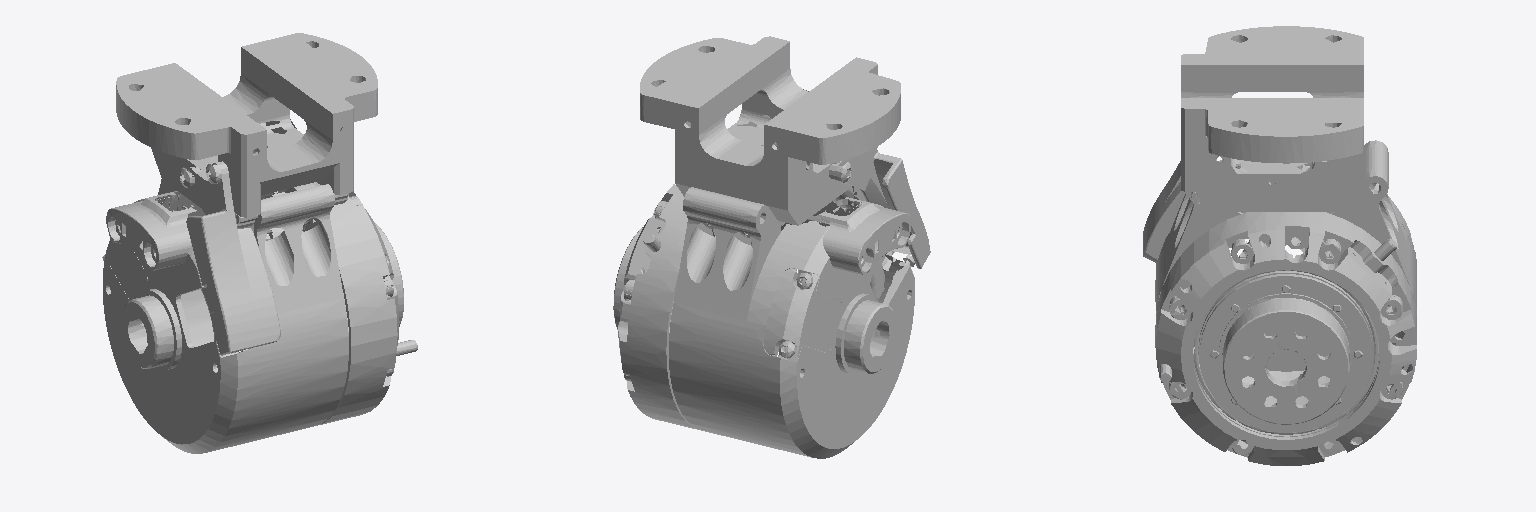
File: sim_ecub_1-1_r_shoulder_1.obj
The picture shows the model from 3 angles: view 1: azimuth 30°, elevation 25°; view 2: azimuth 150°, elevation 25°; view 3: azimuth 270°, elevation 25°; orthographic projection.
Size of the model in its own units: 65.9 by 89.8 by 65.01.